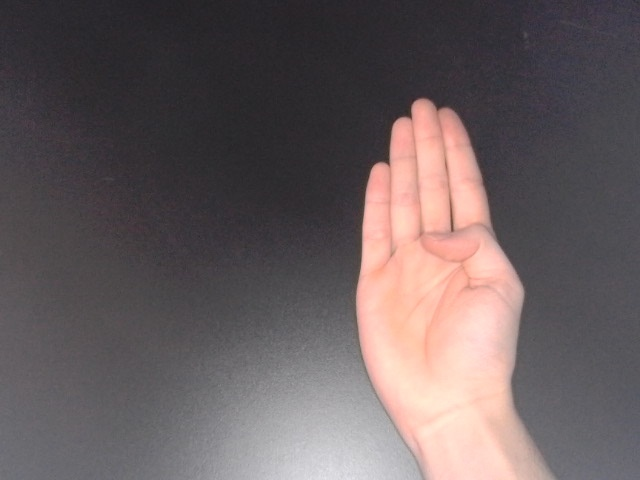b: (350, 94, 531, 446)
